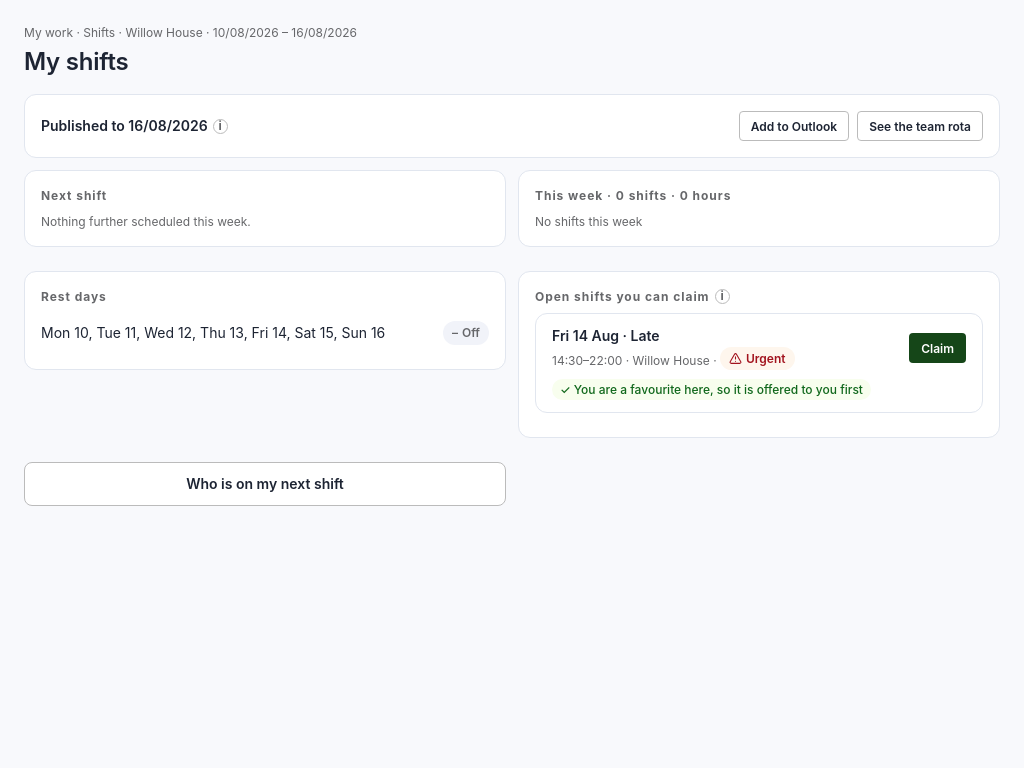
Test: My shifts › the open shift is offered with why, Urgent and Claim; who is on my next shift answers from the week
The image size is (1024, 768).
expect the element with test id "shifts-next" shows "Nothing further scheduled this week.": met, box [41,214,251,229]
What coordinates should you click on to do the following:
click the button with test id "shifts-who-on"
I would click on:
 (265, 484)
Its box is [24,462,506,506].
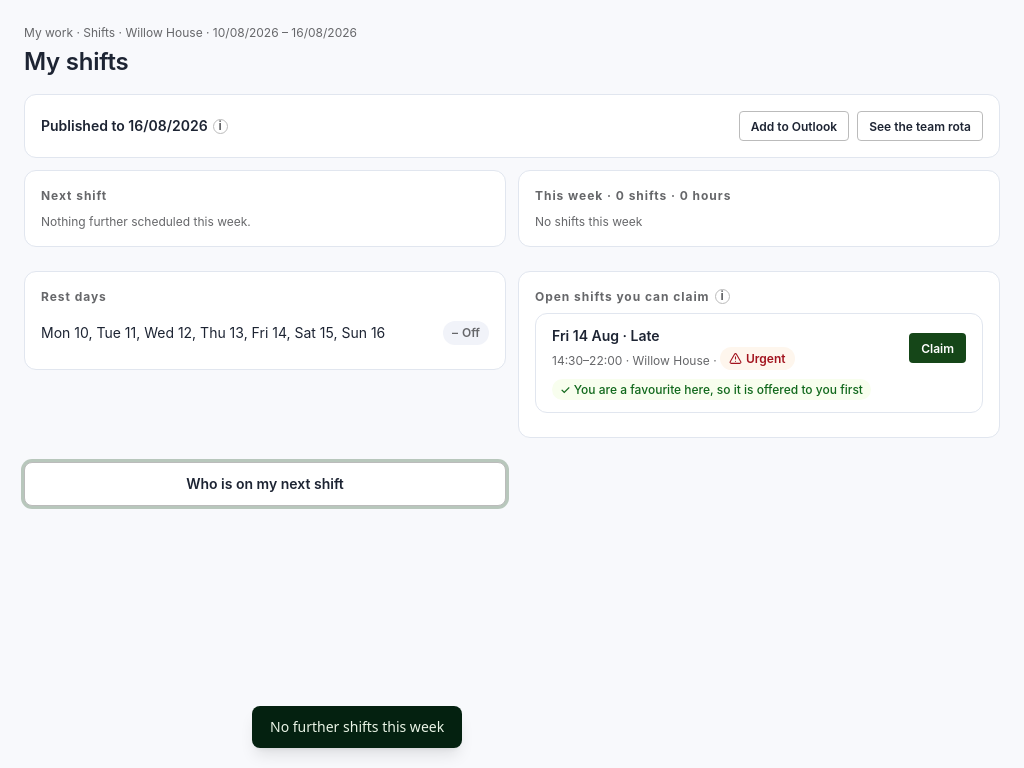
expect the text "No further shifts this week" is shown: met, box [270,717,444,737]
